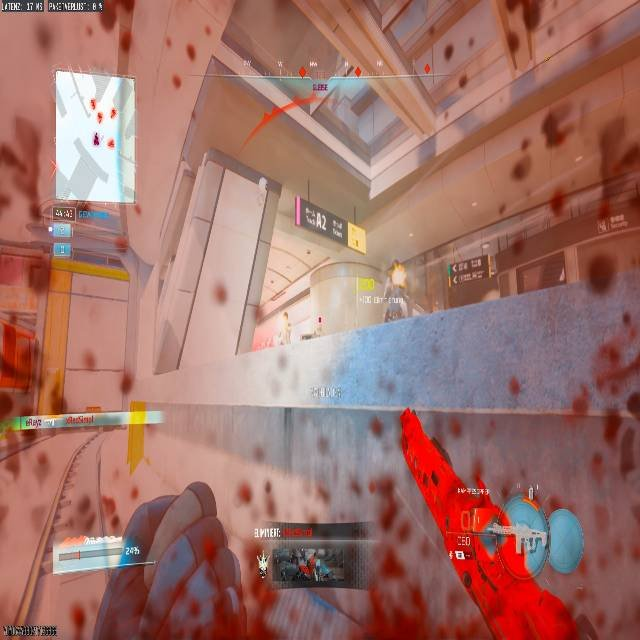player: (380, 261, 411, 323)
